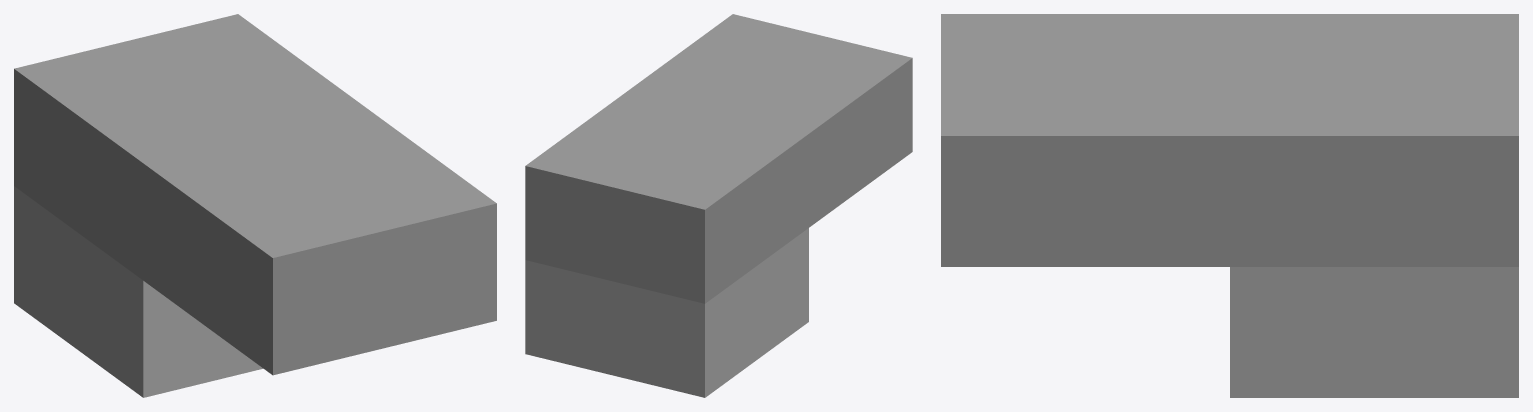
File: sink_tap.obj
The picture shows the model from 3 angles, left to right: view 1: azimuth 30°, elevation 25°; view 2: azimuth 150°, elevation 25°; view 3: azimuth 270°, elevation 25°; orthographic projection. The views are drawn at different scales.
Size of the model in its own units: 0.2 by 0.2 by 0.4.
1 material, 1 textured.
